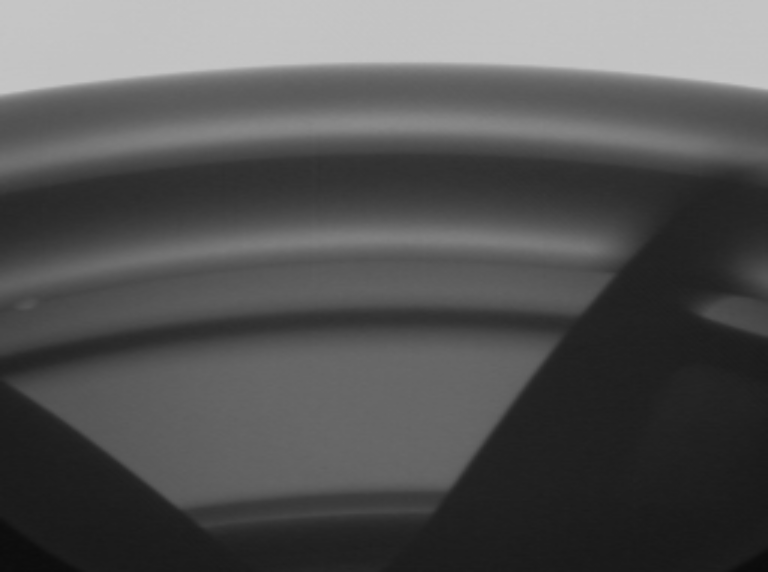defect: (15, 288, 51, 322)
